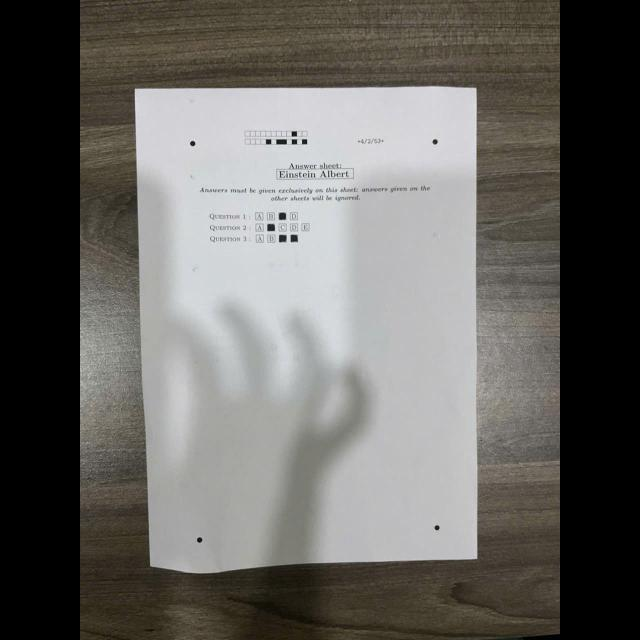Markers: (190, 141, 196, 147), (432, 139, 438, 145), (434, 524, 440, 530), (197, 537, 203, 543)
